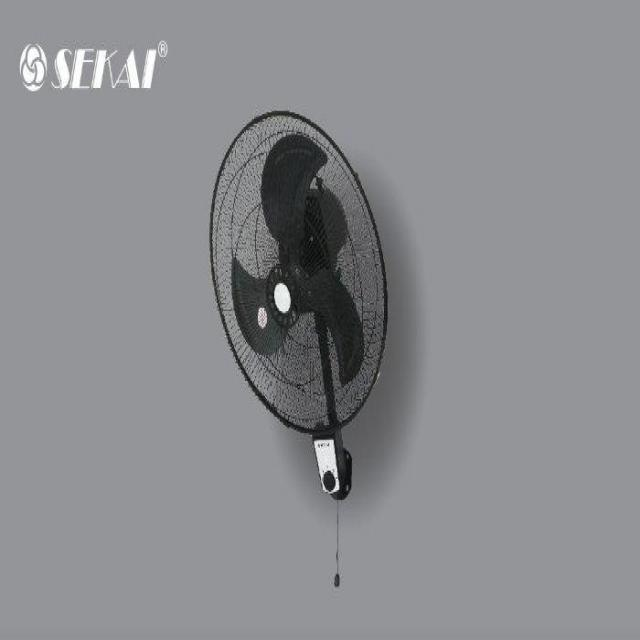fan: (198, 94, 416, 596)
